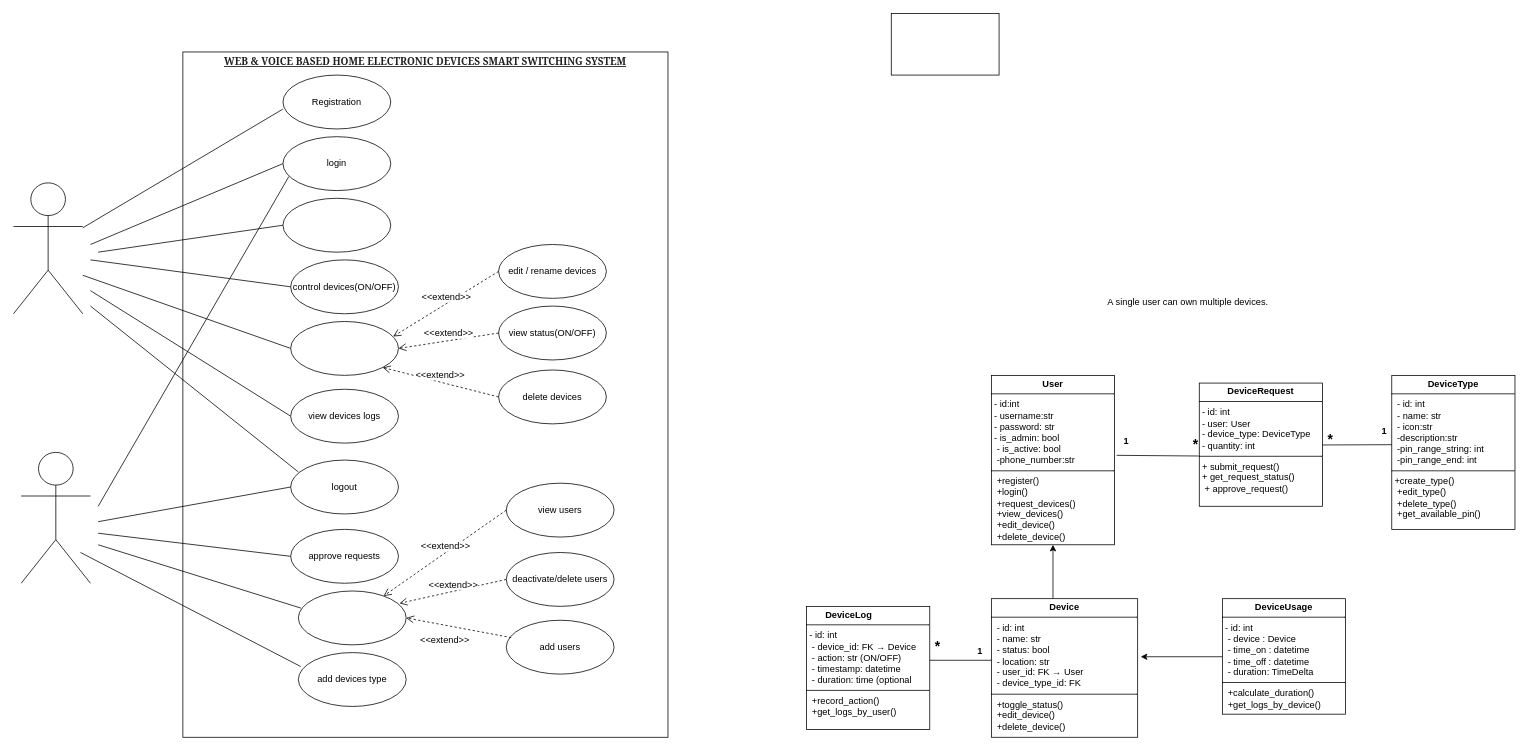
The diagram is 1528 pixels wide and 751 high, and some of its shapes have lost their labels. Here are the shapes that lost their labels. From the top down, the centre of each, then its label:
At pixel 945 44: "Admin(inherits user) +add_device_type() ++manage_users()".
At pixel 336 225: "Request for devices".
At pixel 48 248: "USER".
At pixel 344 348: "manage devices".
At pixel 55 517: "ADMIN".
At pixel 352 617: "manage users".
